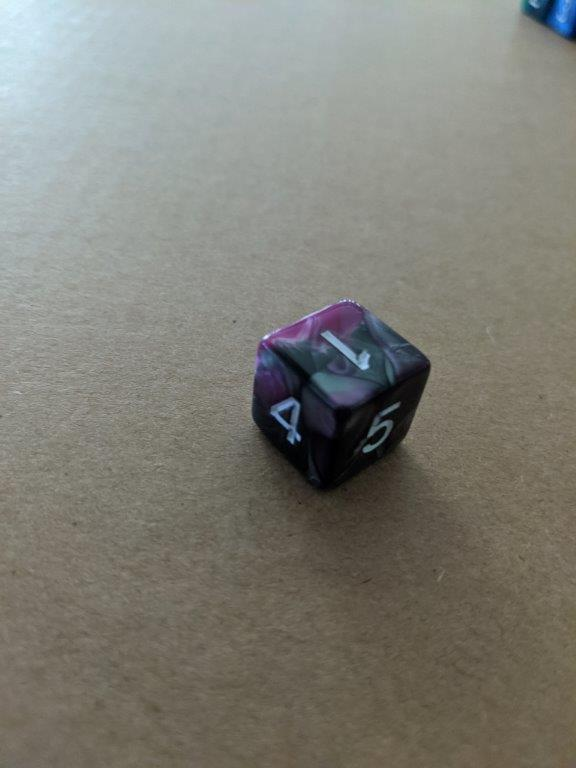d6-1: (250, 300, 429, 495)
